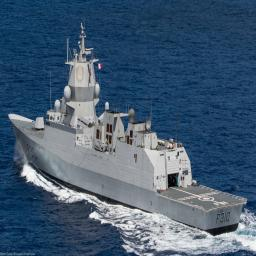Fragata: (8, 17, 247, 238)
